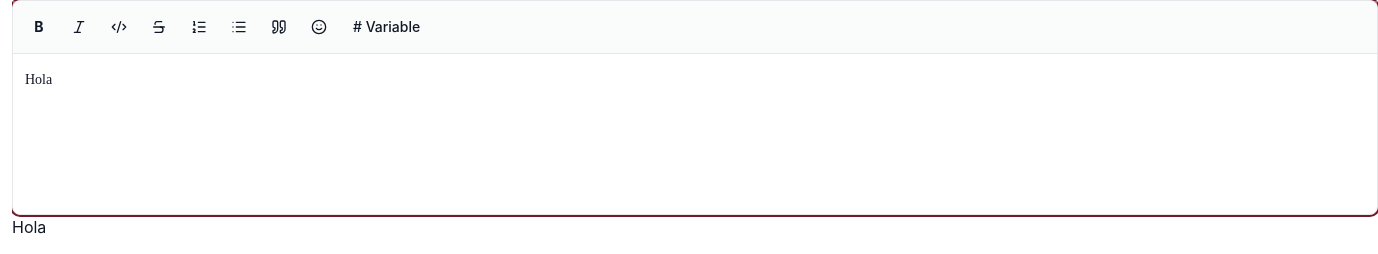
named variables › inserts a temporary marker inline and only saves a valid name
The image size is (1378, 254).
Step 1. Click the button with aria-label "Insertar variable" → (387, 27), box top-left (341, 11), bottom-right (432, 43)
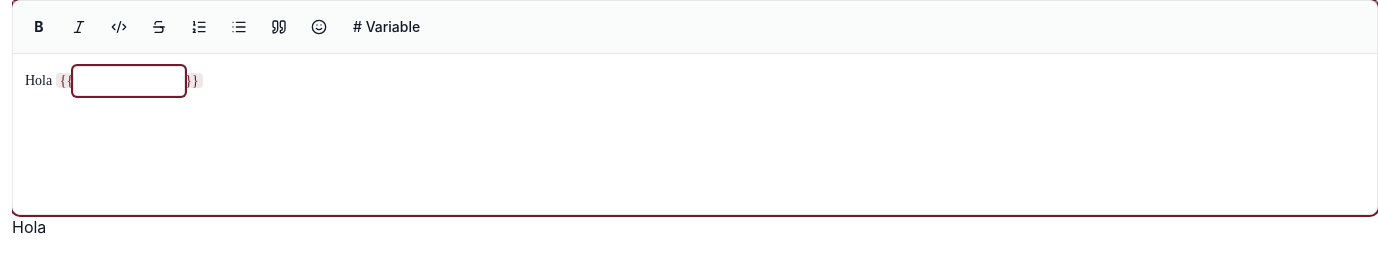
Check: the text with test id "value" reads "Hola", box top-left (12, 217), bottom-right (46, 237)
Check: the field named "Cuerpo" reads "Hola {{ }}", box top-left (25, 73), bottom-right (203, 88)
Step 2. Type "nombre" into the field named "Nombre de variable inline" → (129, 81), box top-left (73, 66), bottom-right (185, 96)
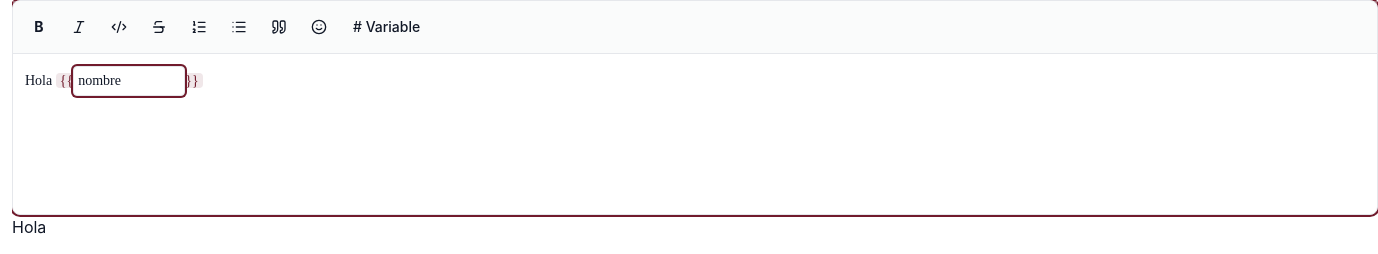
Step 3. Press Enter in the field named "Nombre de variable inline", box top-left (73, 66), bottom-right (185, 96)
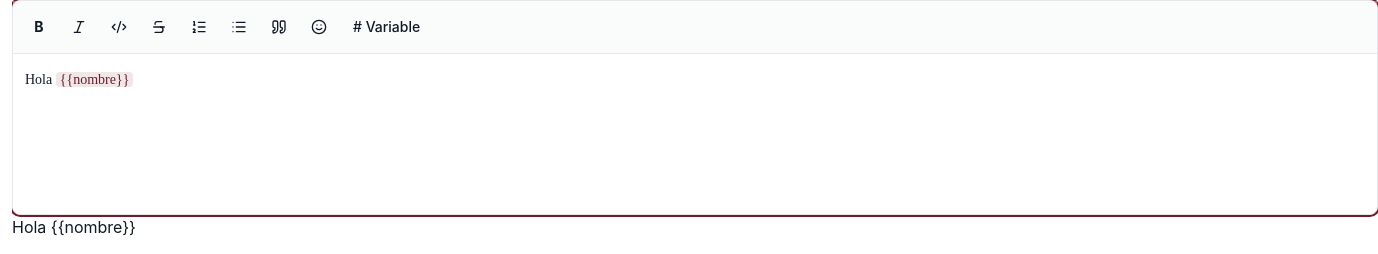
Check: the text with test id "value" reads "Hola {{nombre}}", box top-left (12, 217), bottom-right (136, 237)
